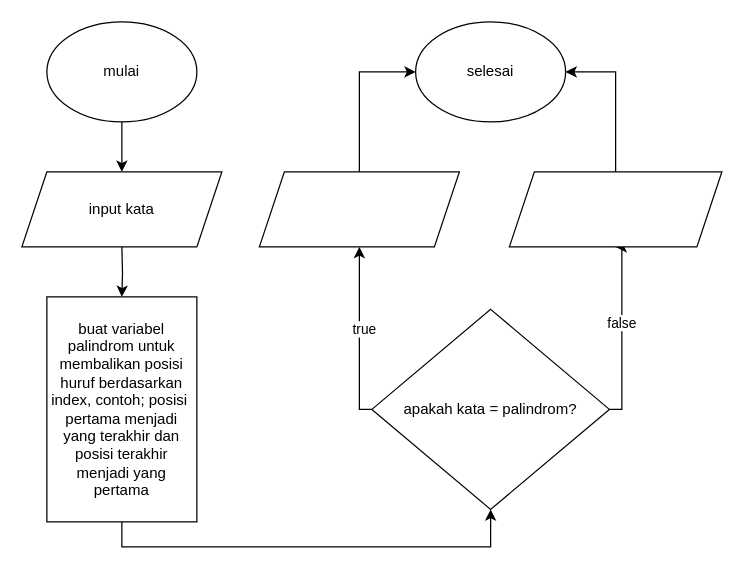
This 744x579 diagram has some shape labels left out. The shapes that lost their labels are listed below. From the top down, each one's centre as x and y in pixels, then its label:
point (358, 209): kata palindrom
point (615, 209): bukan kata palindrom
